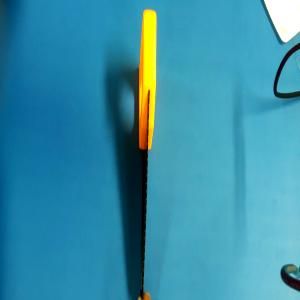serrote: (138, 8, 158, 300)
